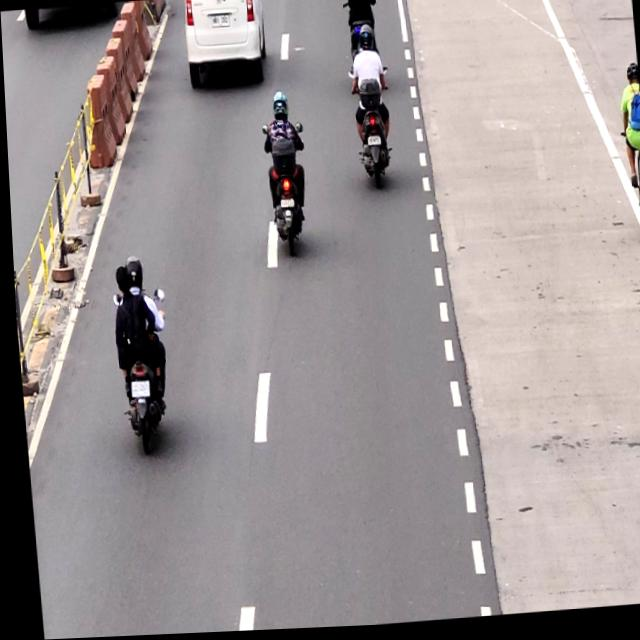Car: (176, 0, 269, 96)
License-Plate: (125, 380, 147, 400), (209, 14, 230, 30), (278, 200, 292, 211)
Motorcycle: (105, 254, 167, 458), (260, 93, 305, 262), (345, 46, 393, 191)
